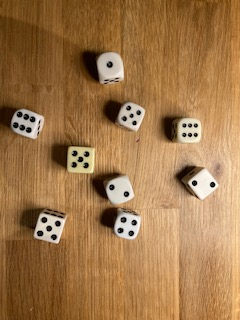five: (32, 208, 67, 245), (113, 100, 148, 134), (65, 144, 97, 174)
four: (110, 206, 143, 242)
one: (95, 51, 125, 86)
six: (9, 108, 45, 140), (169, 116, 204, 146)
two: (179, 166, 221, 202), (102, 172, 136, 206)
